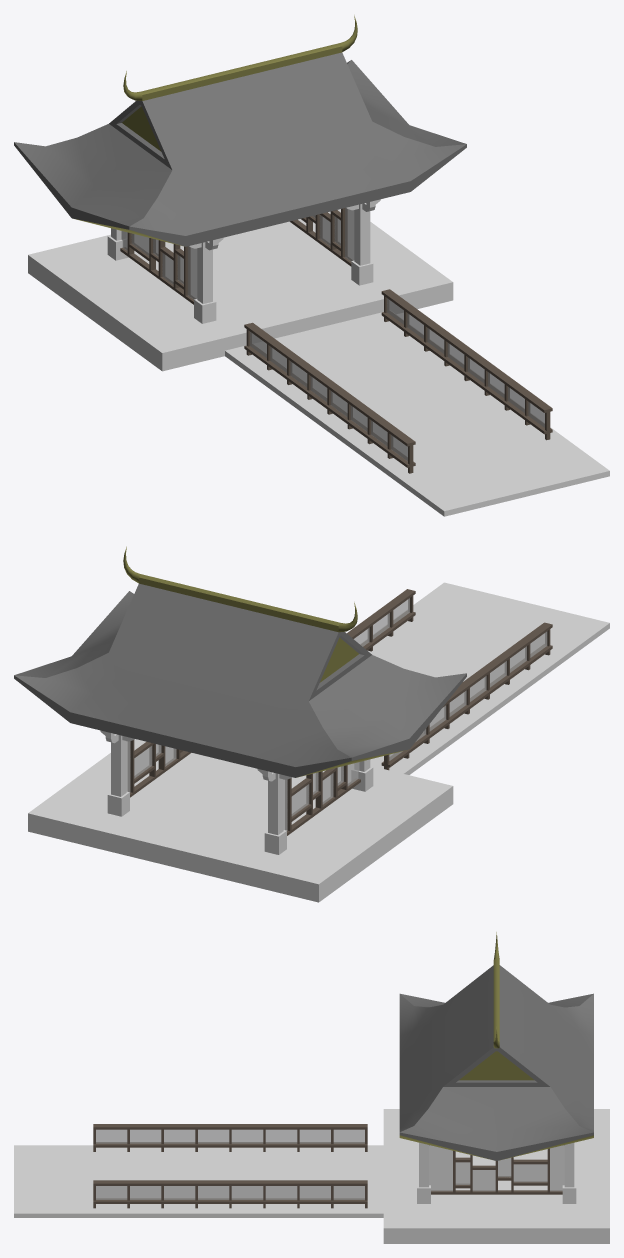
The model's file is Pagoda.fbx.
3 renders of one model, top to bottom at view 1: azimuth 30°, elevation 25°; view 2: azimuth 150°, elevation 25°; view 3: azimuth 270°, elevation 25°, orthographic. The views are drawn at different scales.
Visible parts, largest first — view 1: Box004, Box001, Box009, Group001, Box008; view 2: Box004, Box001, Box009, Group001, Box008; view 3: Box004, Box009, Box001, Group001, Box008.
Part boxes in pixels (bbox=[...]): Box004: bbox=[14, 15, 466, 246]; Box001: bbox=[28, 209, 453, 371]; Box009: bbox=[225, 311, 609, 516]; Group001: bbox=[107, 199, 552, 473]; Box008: bbox=[120, 208, 354, 304]; Box004: bbox=[14, 546, 466, 777]; Box001: bbox=[28, 739, 453, 902]; Box009: bbox=[361, 582, 609, 774]; Group001: bbox=[100, 589, 552, 854]; Box008: bbox=[126, 740, 360, 835]; Box004: bbox=[399, 932, 593, 1160]; Box009: bbox=[14, 1145, 383, 1217]; Box001: bbox=[383, 1109, 609, 1243]; Group001: bbox=[93, 1124, 576, 1208]; Box008: bbox=[429, 1145, 564, 1194].
Bounding box in the file's own units: 1161 × 804 × 2106.
